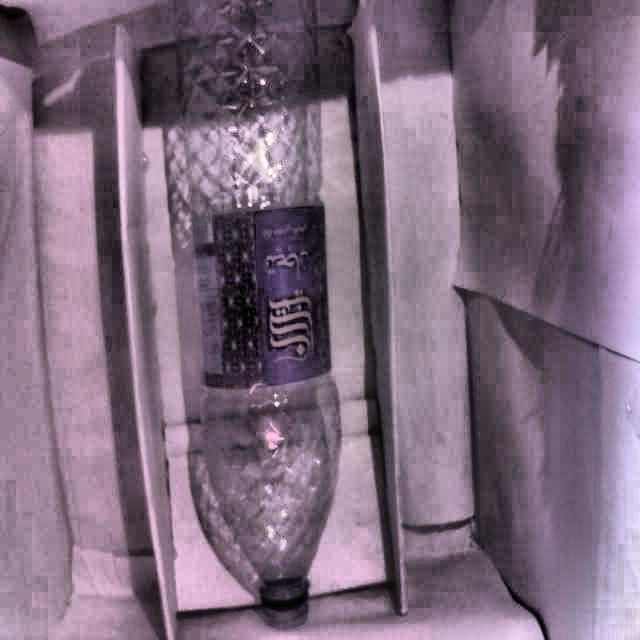plastic bottle: (173, 0, 342, 629)
